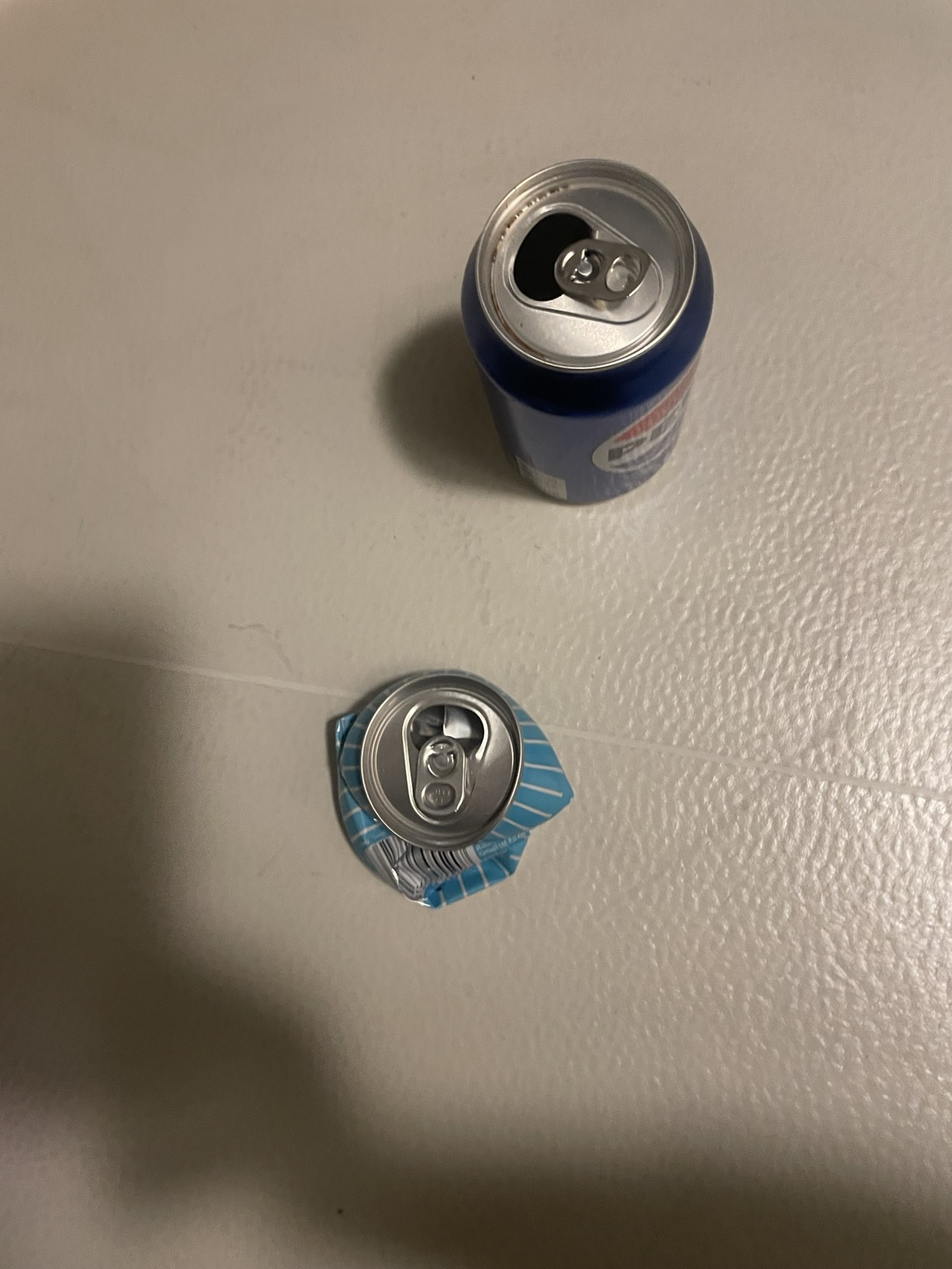pantburk: (458, 163, 717, 509), (323, 668, 571, 913)
